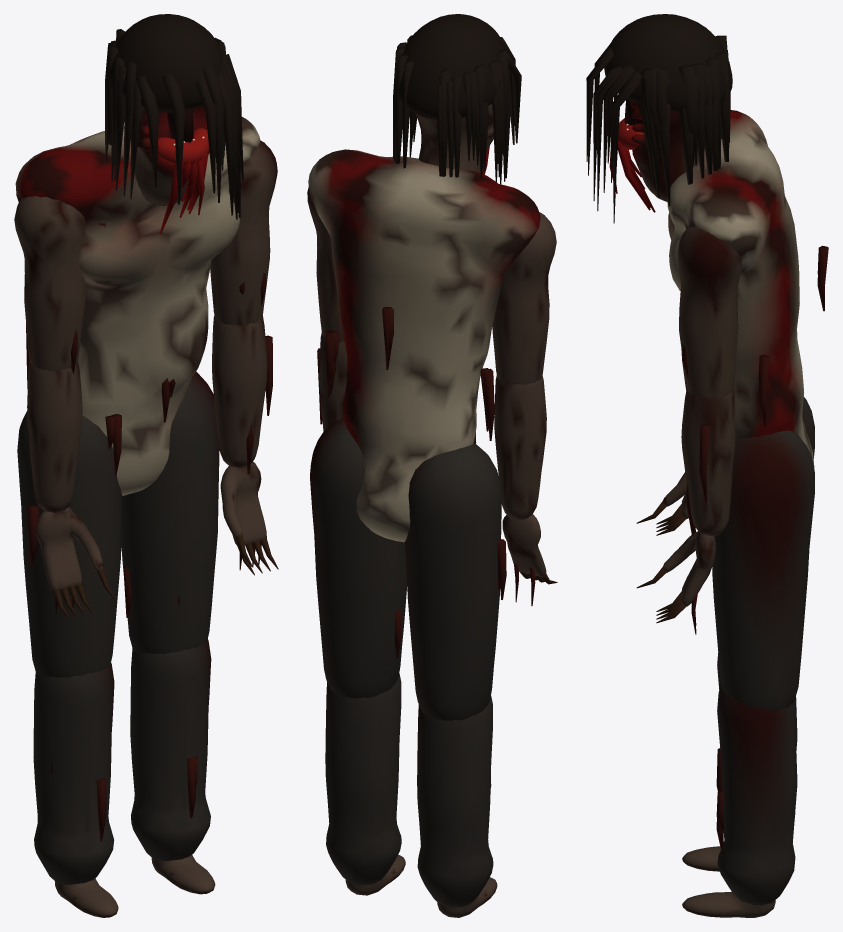
Rendered from zumbi_tinta.glb.
3 views of the same model, side by side, from view 1: azimuth 30°, elevation 25°; view 2: azimuth 150°, elevation 25°; view 3: azimuth 270°, elevation 25° (orthographic). The views are drawn at different scales.
Parts seen in each view (by area): view 1: P_chest, P_neck, P_hipL, P_kneeR, P_kneeL, P_hipR, P_shR, P_elL, P_shL, P_elR, P_handR, P_handL (+1 smaller); view 2: P_chest, P_hipR, P_hipL, P_neck, P_kneeL, P_kneeR, P_shR, P_elR, P_handR, P_shL, P_elL; view 3: P_chest, P_hipL, P_neck, P_kneeL, P_shL, P_elL, P_handL, P_kneeR, P_handR, P_jaw.
Part boxes in pixels (<box>): P_chest: <box>15,117,260,495</box>; P_neck: <box>105,14,243,233</box>; P_hipL: <box>121,371,219,653</box>; P_kneeR: <box>33,663,118,917</box>; P_kneeL: <box>130,639,215,894</box>; P_hipR: <box>17,411,122,677</box>; P_shR: <box>14,196,85,373</box>; P_elL: <box>212,315,272,474</box>; P_shL: <box>210,140,277,325</box>; P_elR: <box>27,361,82,512</box>; P_handR: <box>36,507,116,620</box>; P_handL: <box>220,462,278,575</box>; P_chest: <box>308,149,540,542</box>; P_hipR: <box>404,443,506,720</box>; P_hipL: <box>310,418,407,698</box>; P_neck: <box>393,14,521,184</box>; P_kneeL: <box>325,673,405,895</box>; P_kneeR: <box>417,696,497,917</box>; P_shR: <box>492,212,556,384</box>; P_elR: <box>494,375,546,520</box>; P_handR: <box>502,514,557,605</box>; P_shL: <box>307,187,344,342</box>; P_elL: <box>317,332,347,431</box>; P_chest: <box>667,110,828,467</box>; P_hipL: <box>712,430,814,710</box>; P_neck: <box>586,14,732,223</box>; P_kneeL: <box>682,684,797,917</box>; P_shL: <box>677,226,742,397</box>; P_elL: <box>681,388,735,536</box>; P_handL: <box>636,531,715,634</box>; P_kneeR: <box>682,653,797,871</box>; P_handR: <box>636,472,695,535</box>; P_jaw: <box>609,118,644,193</box>.
Size of the model in its own units: 0.5798 by 1.96 by 0.4908.
